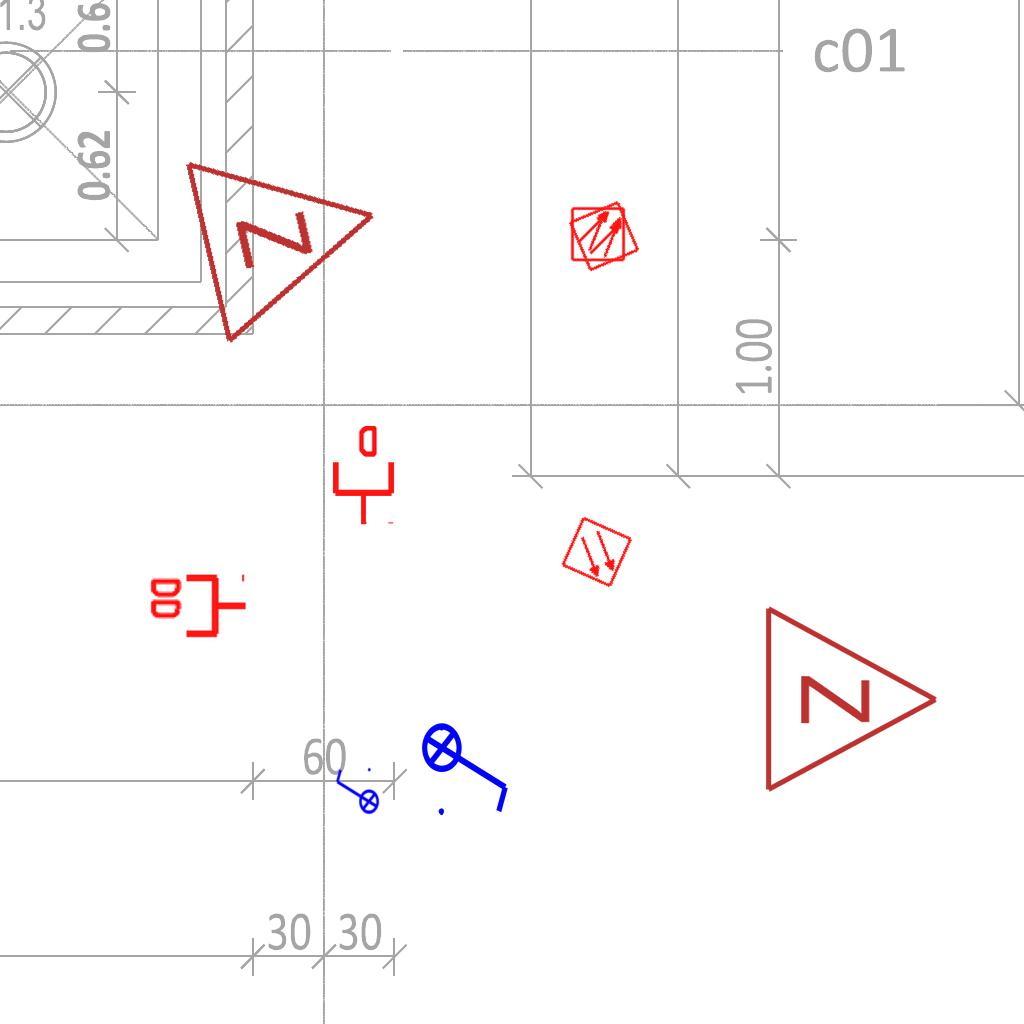Ausschalter_beleuchtet: (420, 709, 516, 821), (332, 765, 380, 821)
Datenanschluss_einfach: (329, 426, 398, 526)
Datenanschluss_zweifach: (146, 573, 249, 642)
RMO_Rauchmelder_optischer: (567, 199, 641, 273), (560, 515, 634, 589), (570, 206, 626, 262)
Zimmersignalleuchte: (169, 114, 409, 350), (751, 599, 951, 795)
